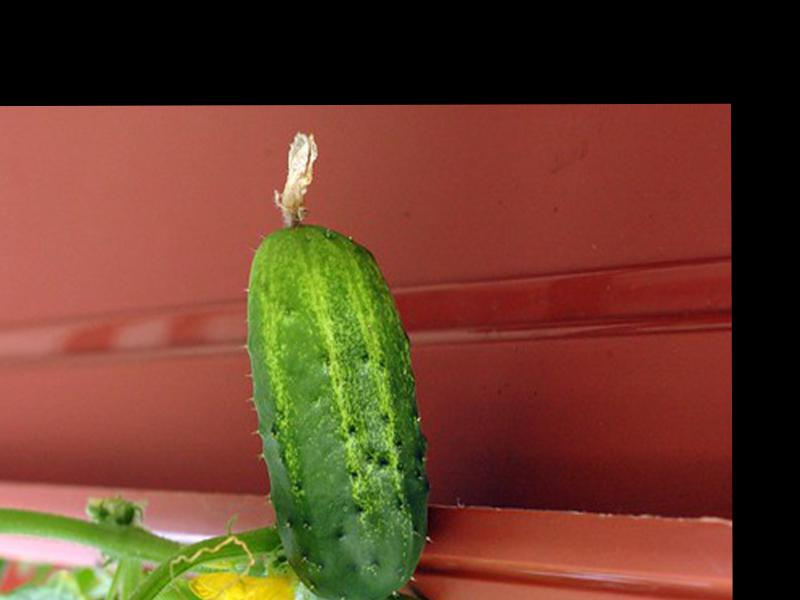Cucumber: (244, 129, 427, 600)
